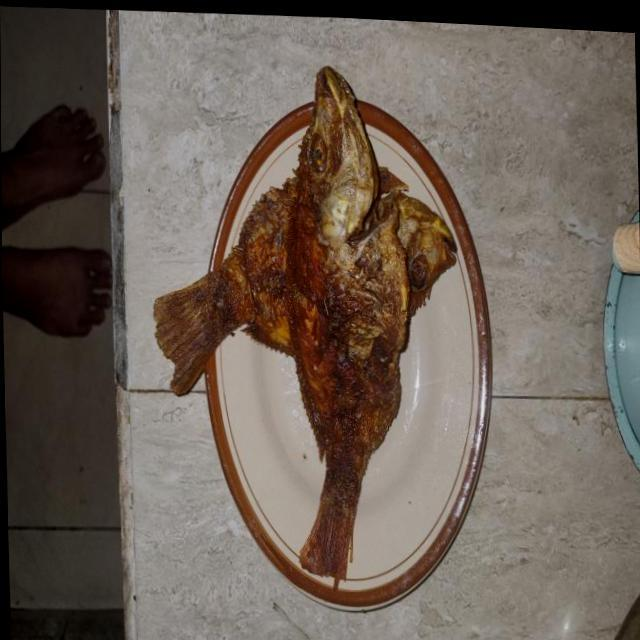ikan_mujair: (154, 178, 456, 394), (284, 66, 409, 579)
